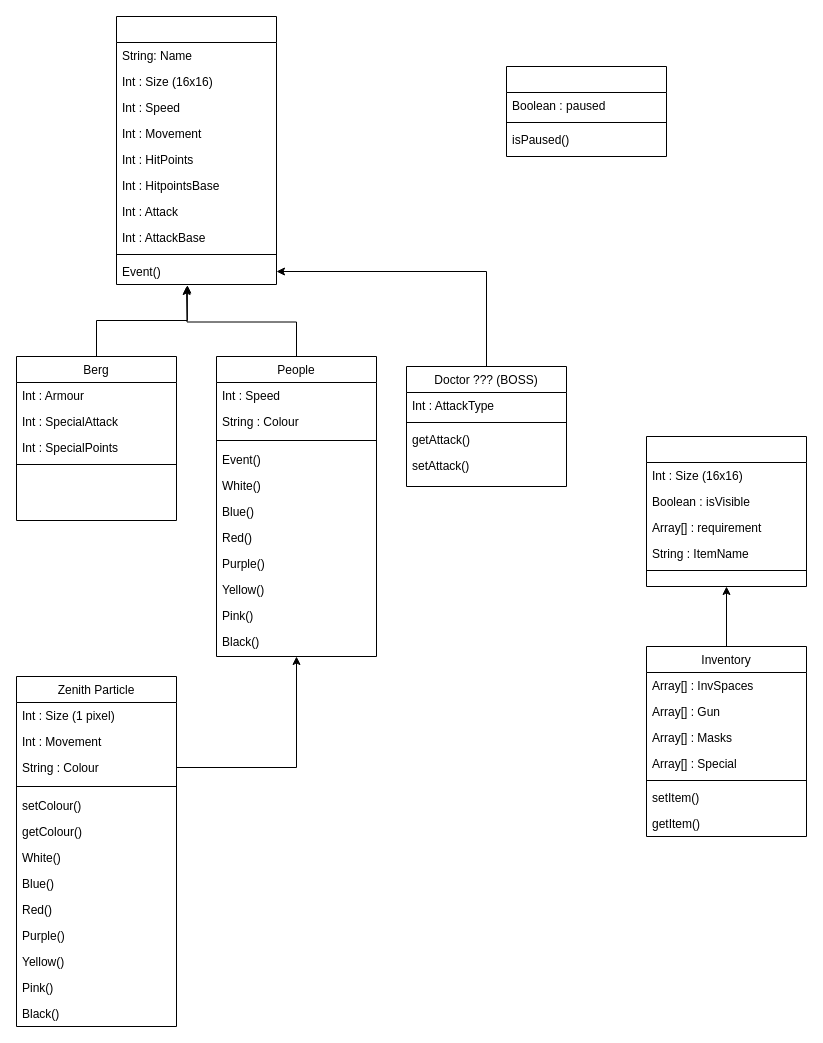
Image size: 823x1043. Some labels were removed from this diagram. Each missing label, with the box of its shape:
Characters {Abstract}: (116, 16, 276, 284)
Items: (646, 436, 806, 586)
Menu: (506, 66, 666, 156)
